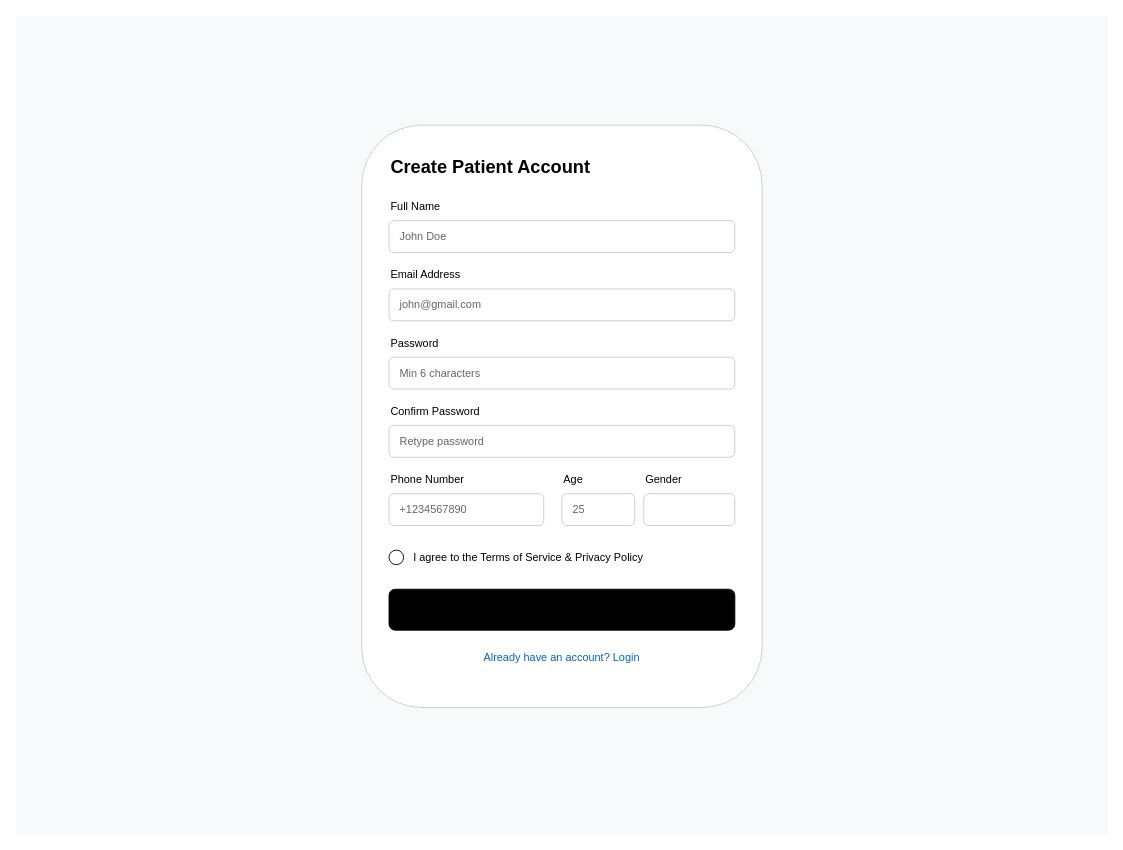
Image size: 1123x850. Some labels were removed from this diagram. Here are the shapes that lost their labels. From the top down, the centre of each, then its label:
At [689,509]: "Male [v]".
At [396,557]: "[x]".
At [561,609]: "Register Account".
